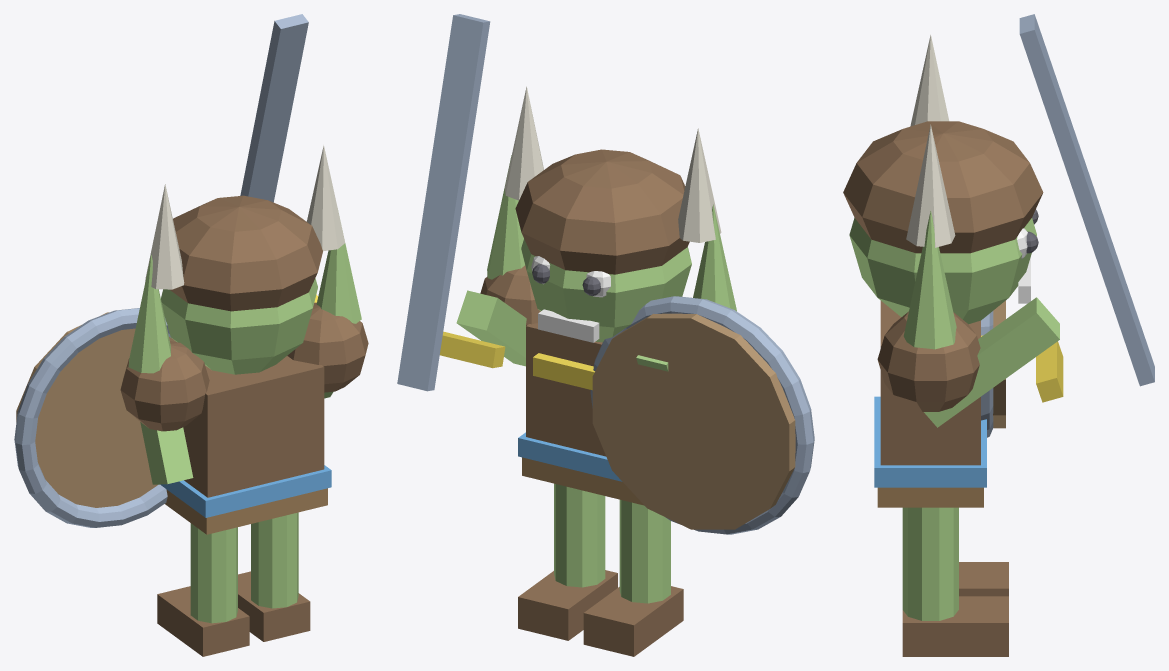
The model's file is sword_goblins.glb.
The picture shows the model from 3 angles, left to right: view 1: azimuth 30°, elevation 25°; view 2: azimuth 150°, elevation 25°; view 3: azimuth 270°, elevation 25°; orthographic projection. The views are drawn at different scales.
Parts seen in each view (by area): view 1: sword_goblins; view 2: sword_goblins; view 3: sword_goblins.
Part boxes in pixels (<box>): sword_goblins: <box>14,14,368,656</box>; sword_goblins: <box>397,14,814,656</box>; sword_goblins: <box>843,14,1154,656</box>.
Size of the model in its own units: 1.42 by 2.31 by 0.996.
